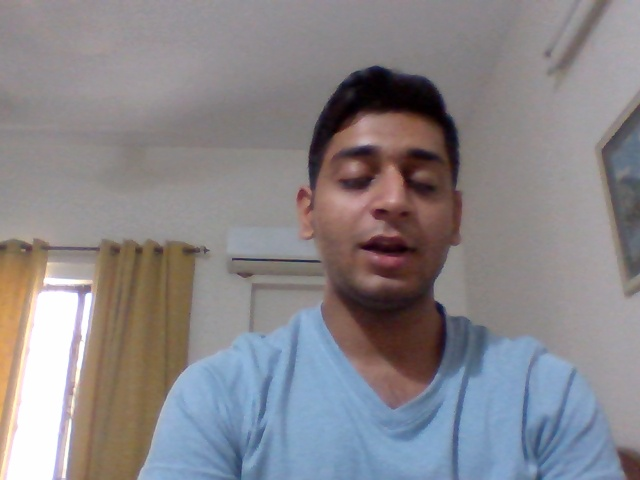surprised: (326, 122, 456, 300)
